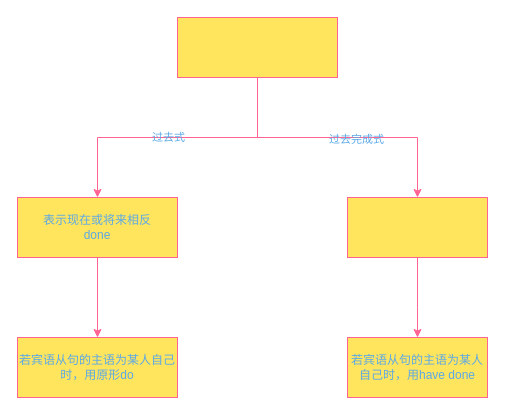
The diagram is 505 pixels wide and 415 high, and some of its shapes have lost their labels. Each missing label, with the centre of its shape:
would rather/had rather: the point at 257,47
过去事实相反 had done: the point at 417,227
